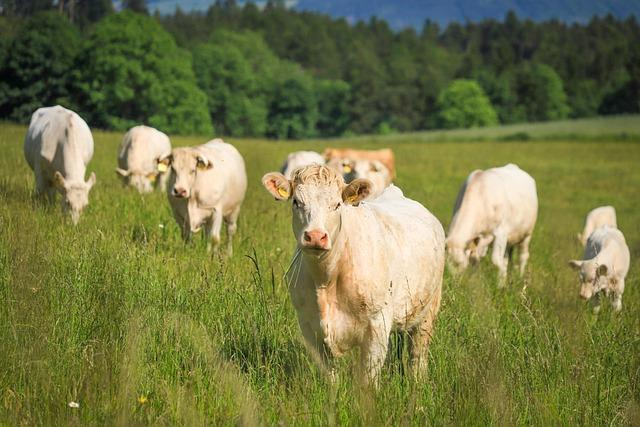Non_Gorille: (23, 33, 640, 395)
